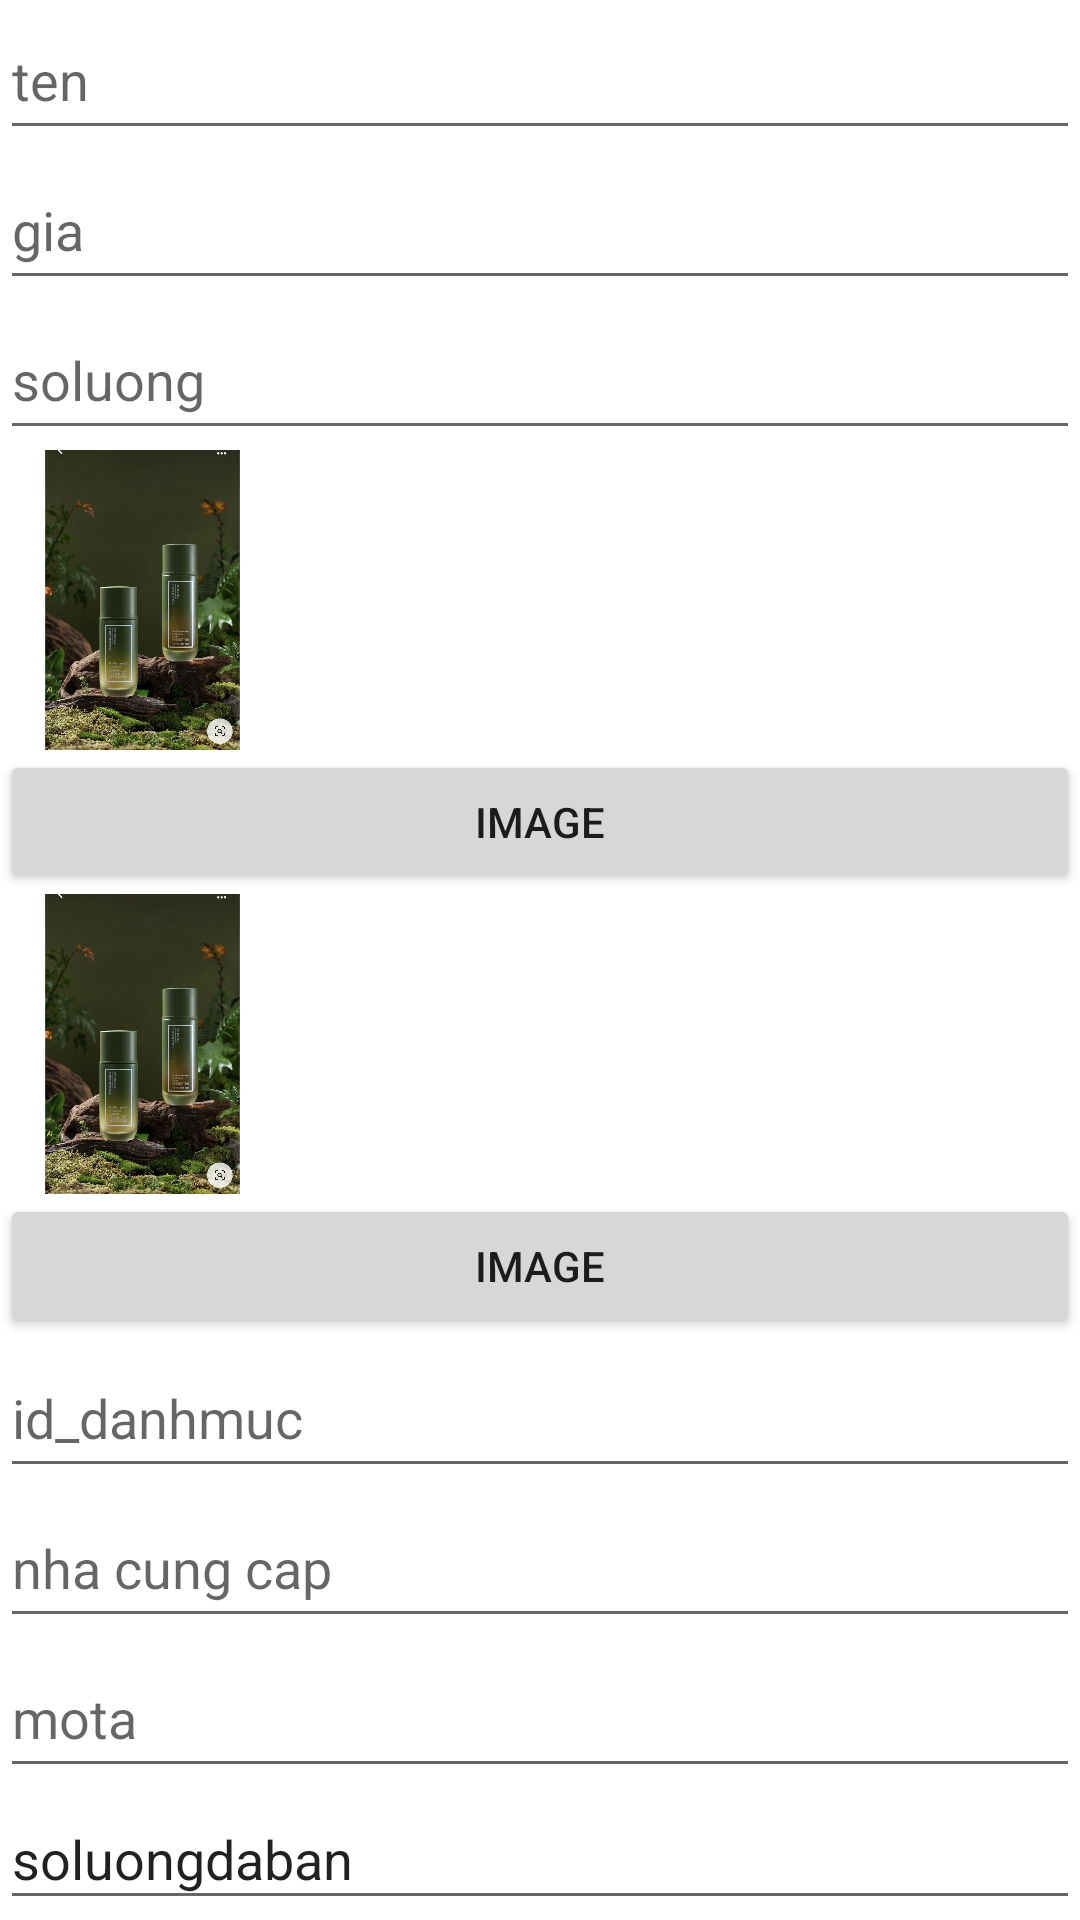

Named icons in this screenshot (1080 × 1920) and their bounding boxes, (left=x1, top=y1, right=x2, bottom=y2):
mau: (left=45, top=450, right=240, bottom=750), (left=45, top=894, right=240, bottom=1194)
